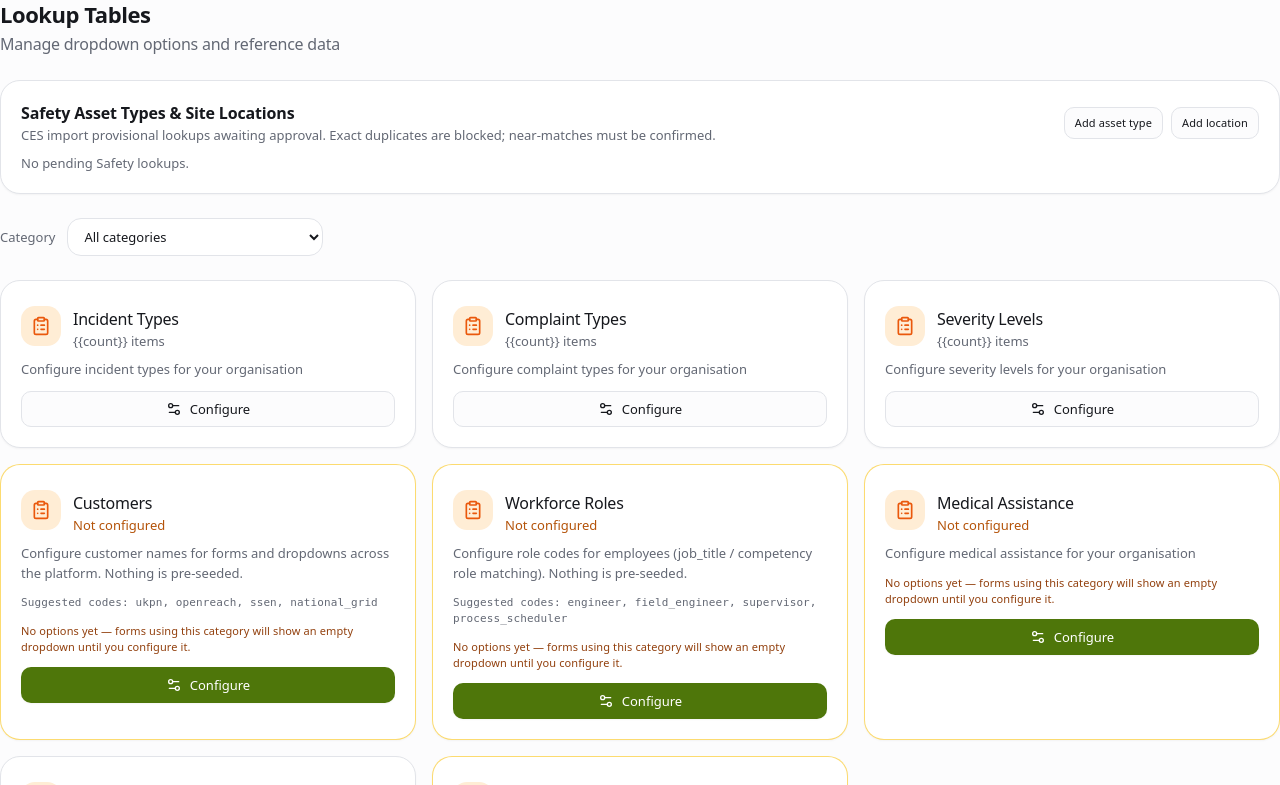
Test: LookupTables configure CTA › opens customers editor and shows suggested customer codes when empty
Step 1. Click the button with test id "lookup-configure-customers" → (208,685), box [21,667,395,703]
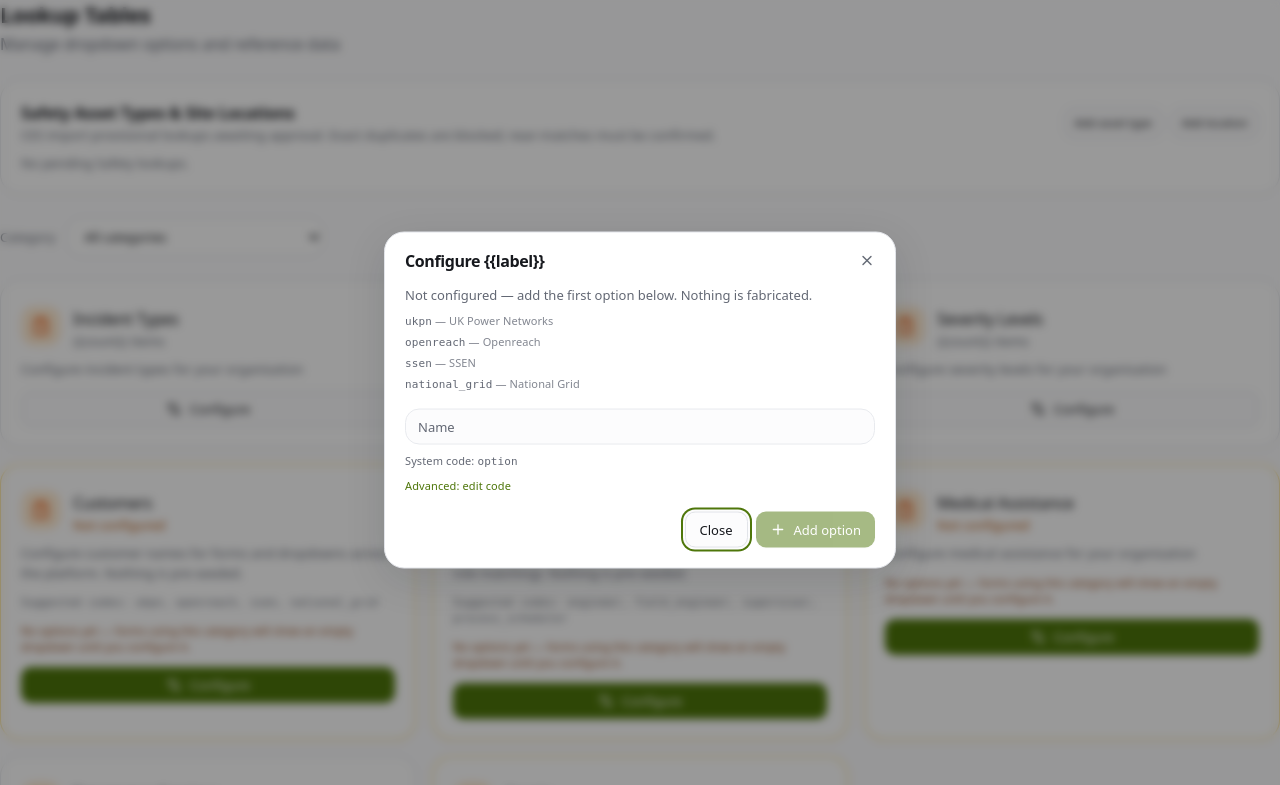
Now the dialog with test id "lookup-editor-dialog" is shown, box [384,232,896,568]
Now the list with test id "lookup-editor-customer-hints" shows "ukpn", box [405,314,432,328]
Now the list with test id "lookup-editor-customer-hints" shows "openreach", box [405,336,466,348]
